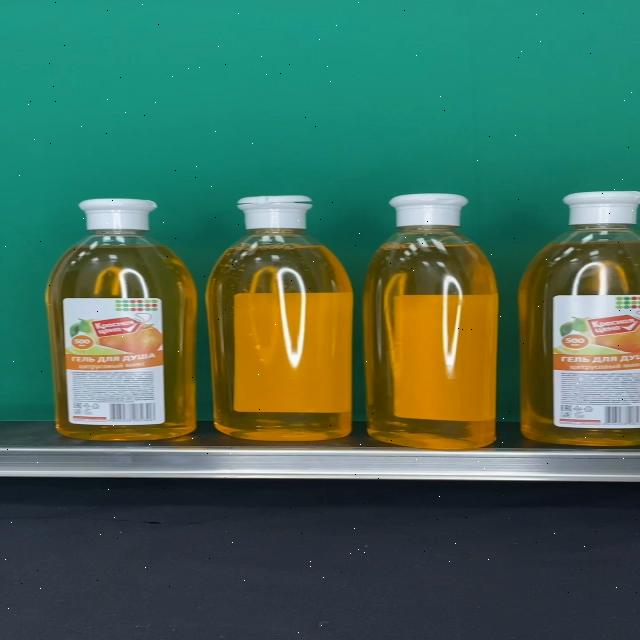Bottle: (206, 195, 354, 441), (46, 199, 197, 440), (365, 194, 498, 451)
Cap: (78, 198, 156, 232), (389, 194, 471, 226), (237, 195, 314, 229)
